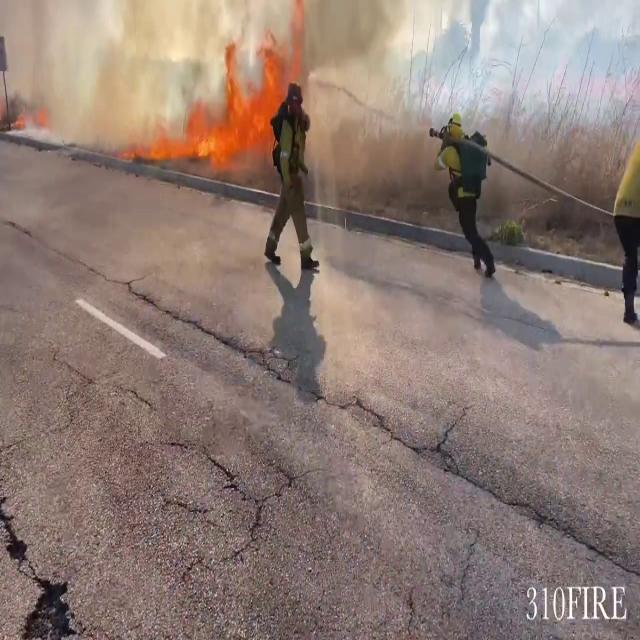Fire: (155, 42, 281, 172)
Smoke: (6, 0, 227, 148)
